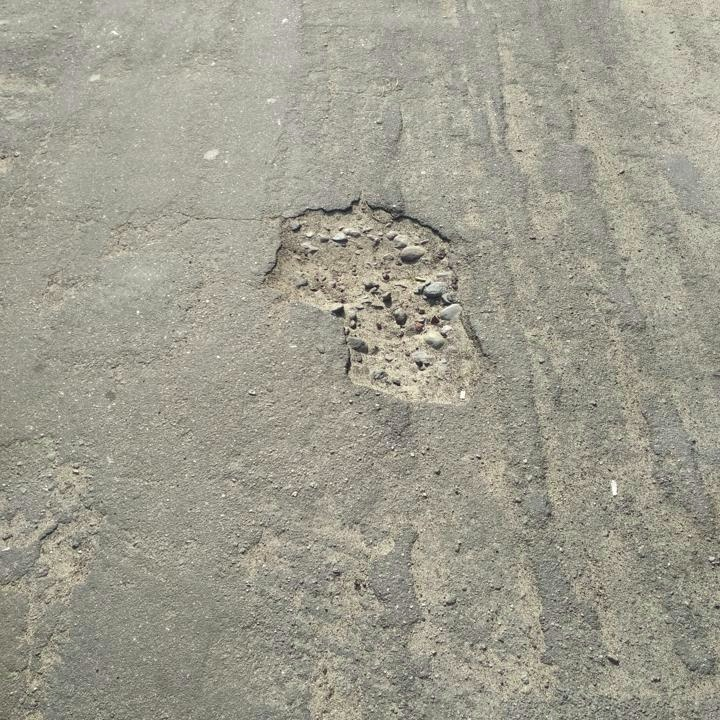pothole: (257, 194, 493, 412)
